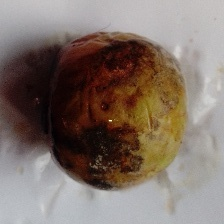guava: (12, 33, 188, 203)
